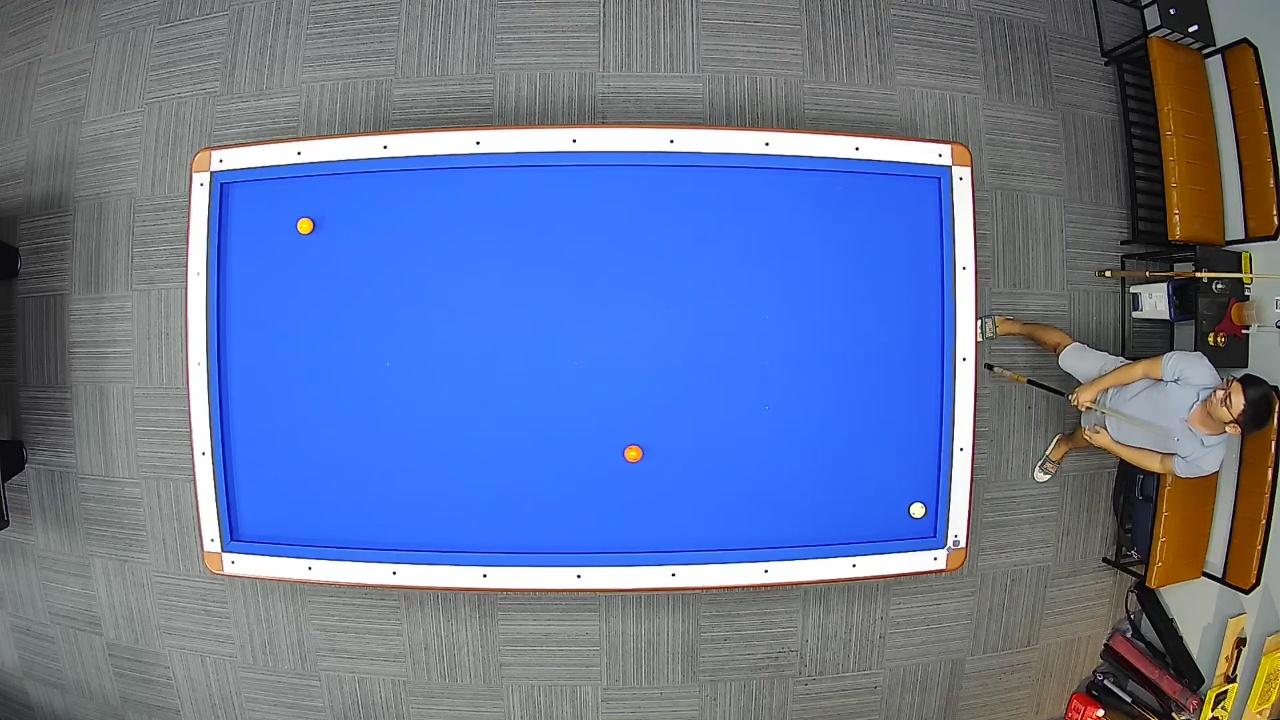Orange: (623, 444, 645, 464)
White: (908, 500, 926, 522)
Yellow: (294, 218, 316, 238)
